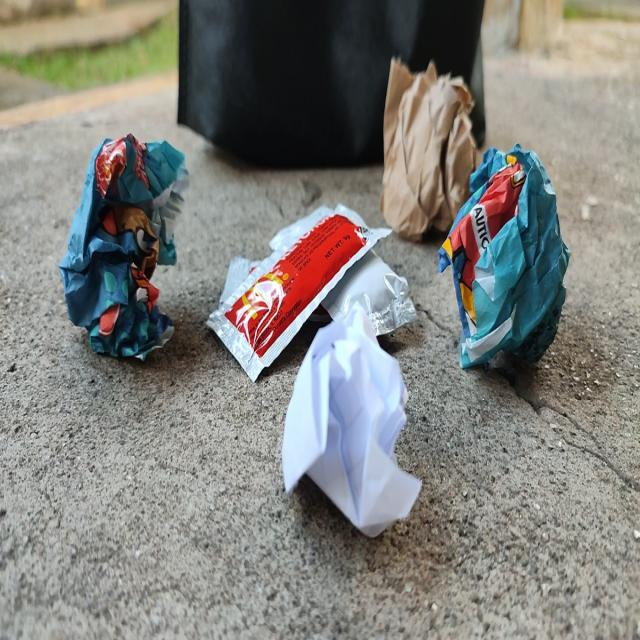paper: (267, 295, 433, 555), (44, 126, 205, 392), (424, 137, 576, 395), (373, 23, 482, 242)
